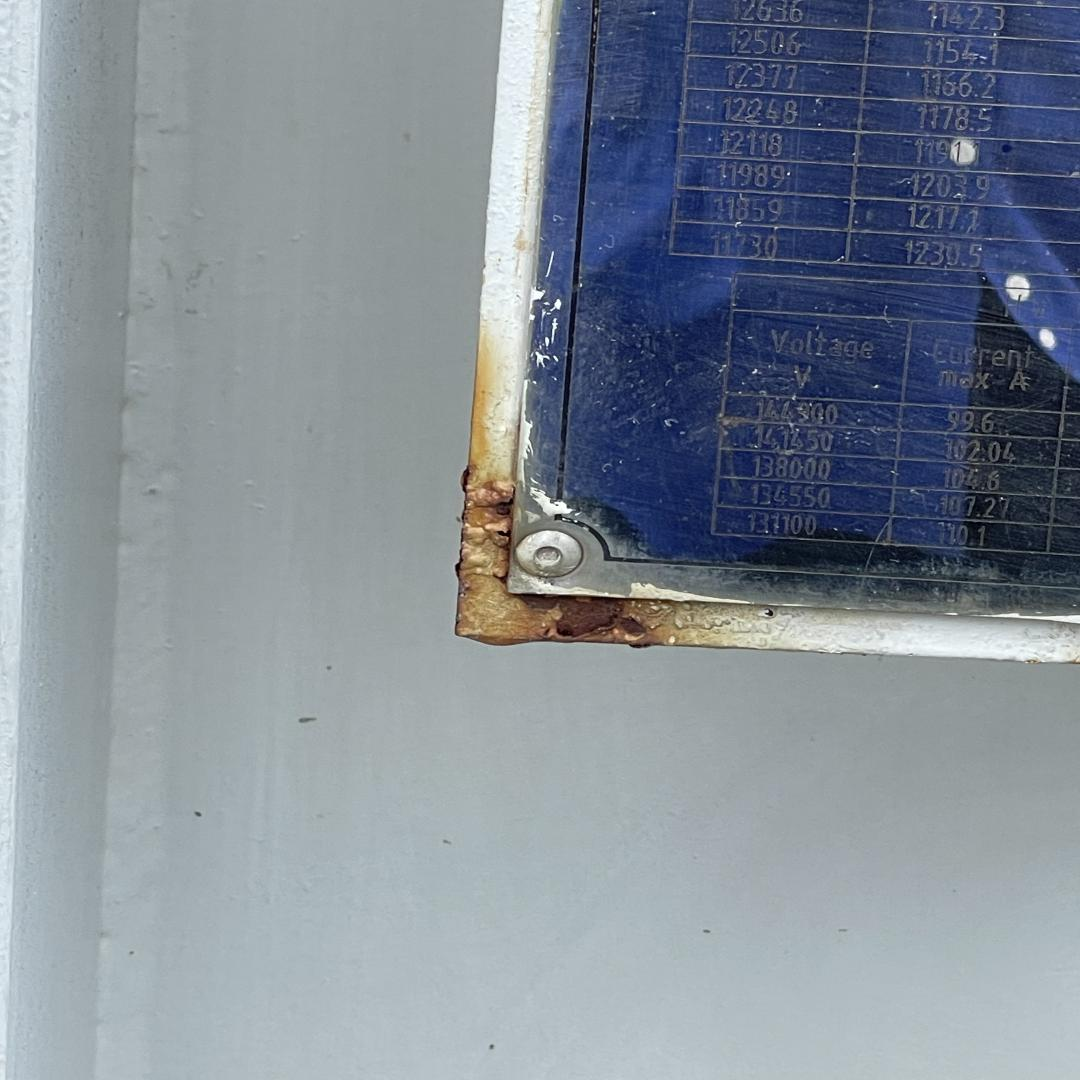Metal: (482, 0, 552, 429), (769, 609, 1080, 663)
Metal corroido: (456, 320, 789, 652)
